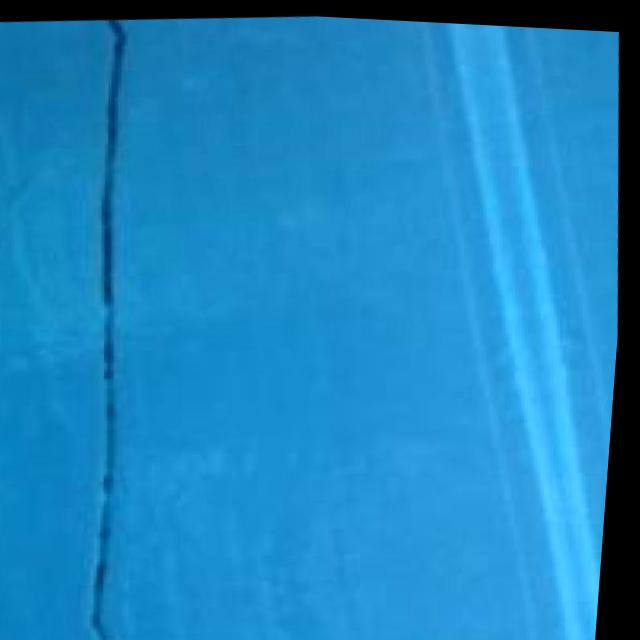Crack: (23, 12, 213, 640)
